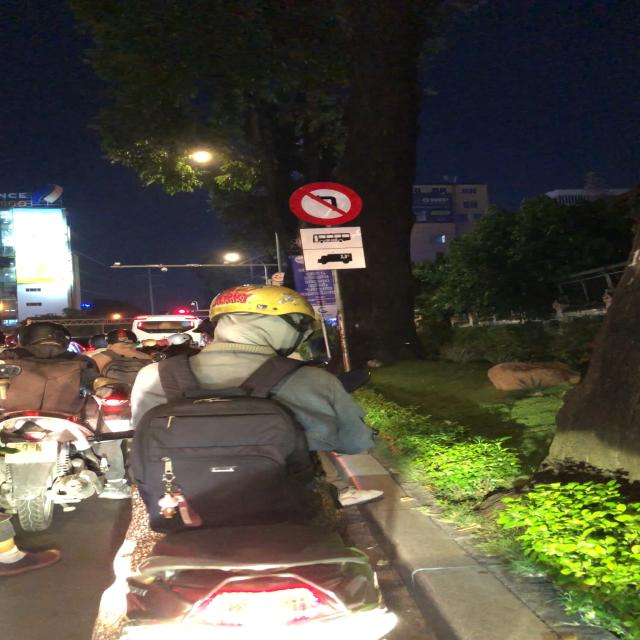Bien bao cam re trai: (284, 180, 365, 226)
